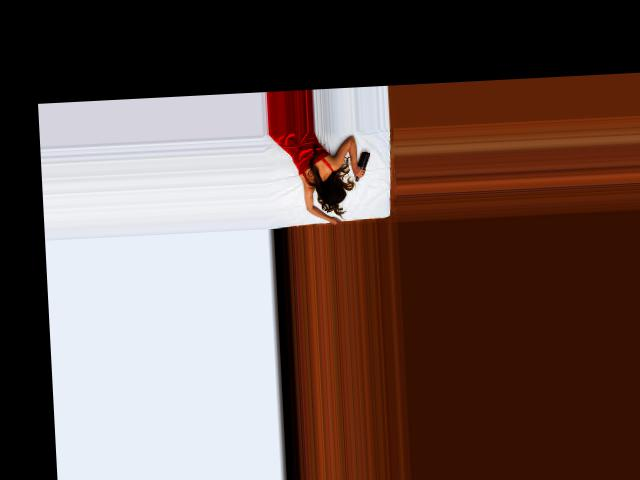beer: (353, 150, 372, 181)
